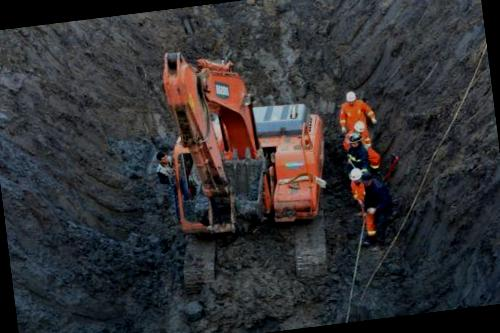no_helmet: (153, 148, 169, 166), (360, 170, 376, 188)
